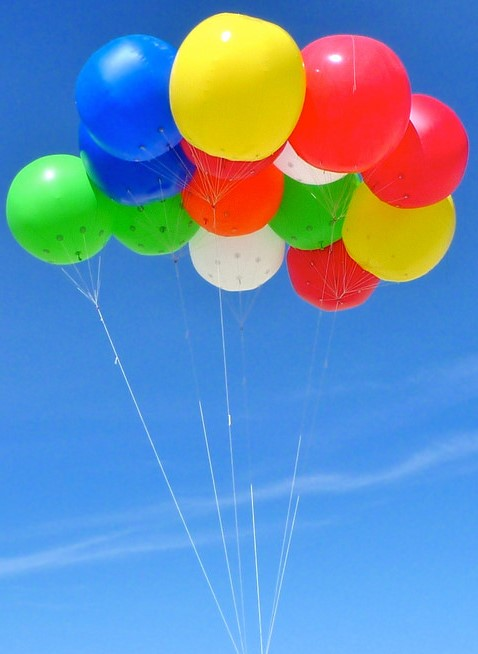Balloon: (172, 13, 305, 155), (283, 34, 411, 170), (78, 34, 182, 154), (360, 92, 468, 206), (344, 180, 456, 282), (7, 155, 109, 263), (187, 155, 281, 228)
